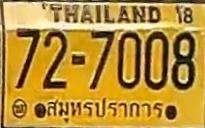0: (144, 31, 168, 89), (117, 30, 140, 88)
2: (43, 29, 66, 89)
7: (15, 28, 40, 88), (90, 30, 115, 89)
8: (171, 31, 194, 89)
SPK: (43, 95, 165, 122)
